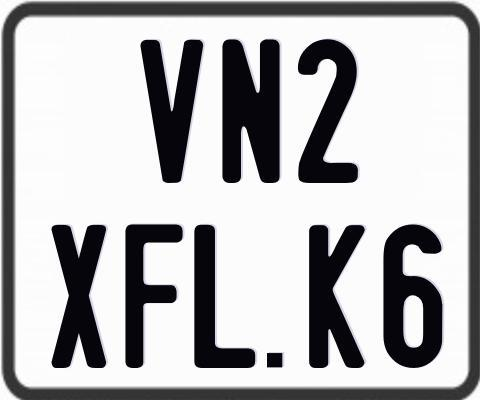2: (298, 36, 360, 186)
6: (382, 222, 447, 368)
F: (125, 223, 189, 372)
K: (307, 223, 368, 370)
L: (193, 224, 256, 370)
N: (222, 37, 282, 184)
V: (138, 37, 200, 182)
X: (51, 224, 108, 367)
